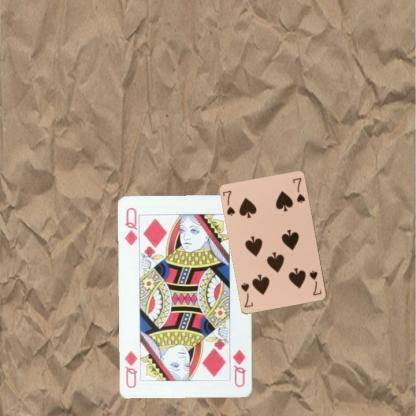7s: (220, 188, 236, 218), (307, 268, 323, 297)
Qd: (122, 206, 141, 250), (230, 346, 247, 388)
